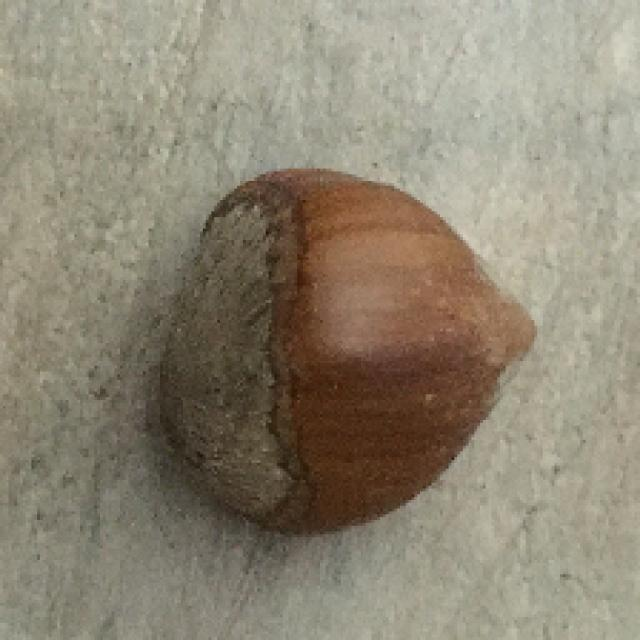qualityHazelnut: (159, 168, 548, 535)
